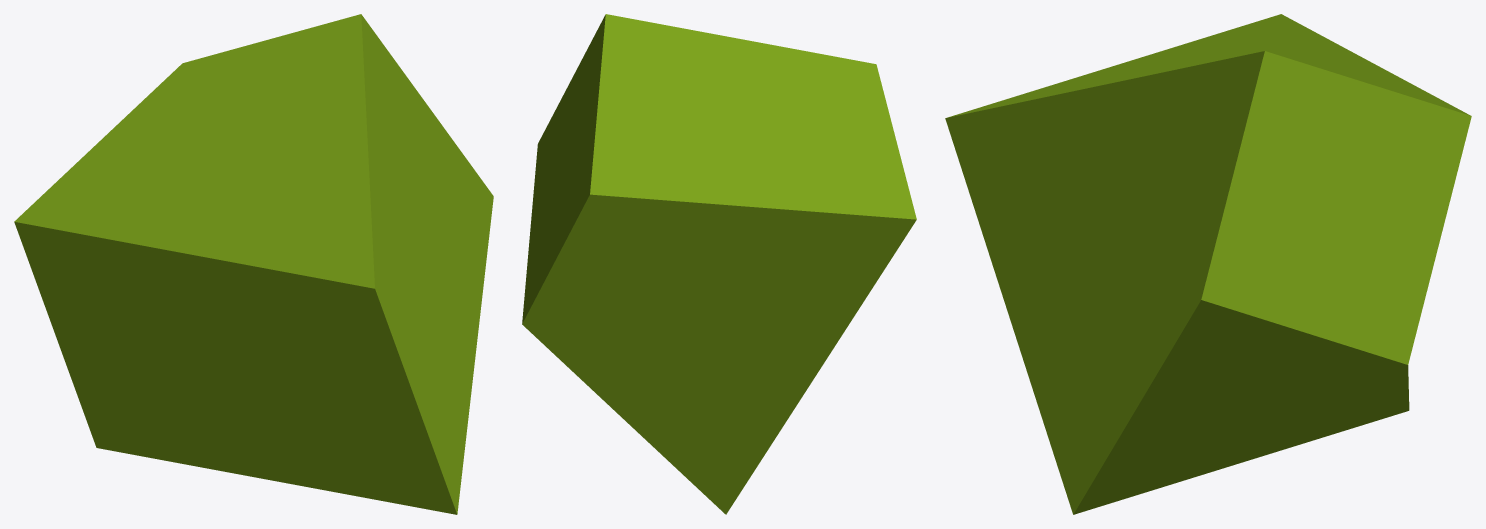
File: tree-summer-leaves-021.glb
3 views of the same model, side by side, from view 1: azimuth 30°, elevation 25°; view 2: azimuth 150°, elevation 25°; view 3: azimuth 270°, elevation 25° (orthographic). The views are drawn at different scales.
Parts seen in each view (by area): view 1: Cube.019_247; view 2: Cube.019_247; view 3: Cube.019_247.
Part boxes in pixels (x1,y1,x2,y2): Cube.019_247: (14,14,493,514); Cube.019_247: (522,14,916,514); Cube.019_247: (945,14,1471,514).
Bounding box in the file's own units: 0.8199 × 0.7732 × 0.8001.
